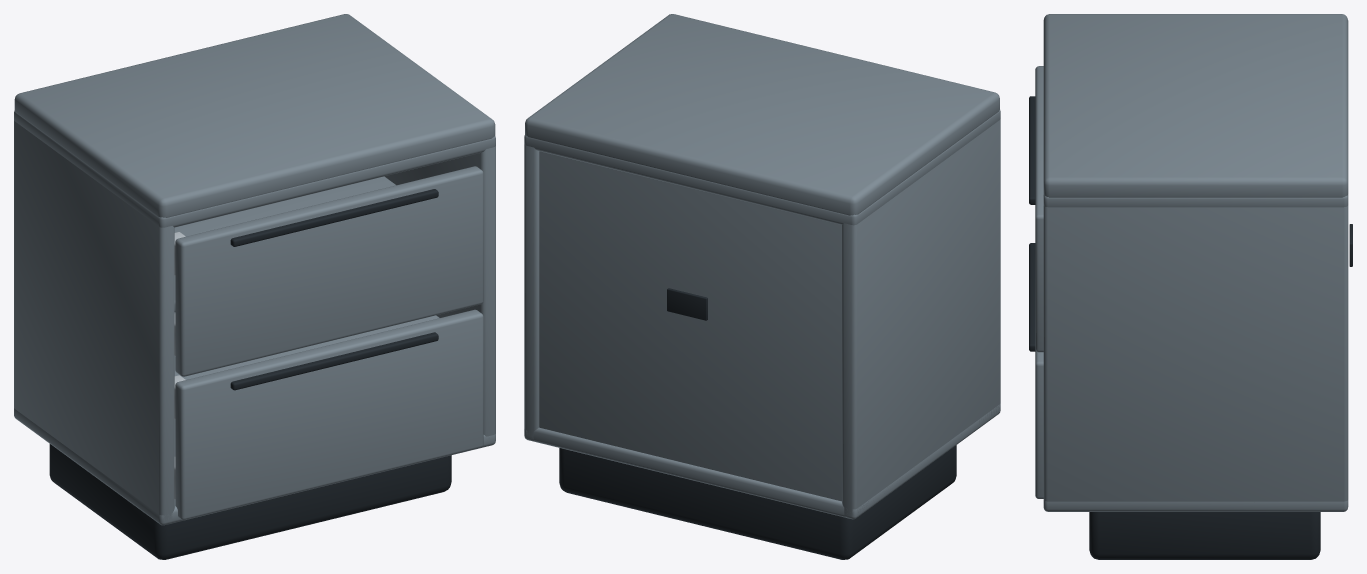
The model's file is drawer-side-table.glb.
The picture shows the model from 3 angles, left to right: view 1: azimuth 30°, elevation 25°; view 2: azimuth 150°, elevation 25°; view 3: azimuth 270°, elevation 25°; orthographic projection. The views are drawn at different scales.
Visible parts, largest first — view 1: drawer-side-table; view 2: drawer-side-table; view 3: drawer-side-table.
Boxes of the visible parts, x1,y1,x2,y2 form: drawer-side-table: [14, 14, 495, 559]; drawer-side-table: [524, 14, 1000, 559]; drawer-side-table: [1029, 14, 1352, 559].
Size of the model in its own units: 0.54 by 0.59 by 0.44.
